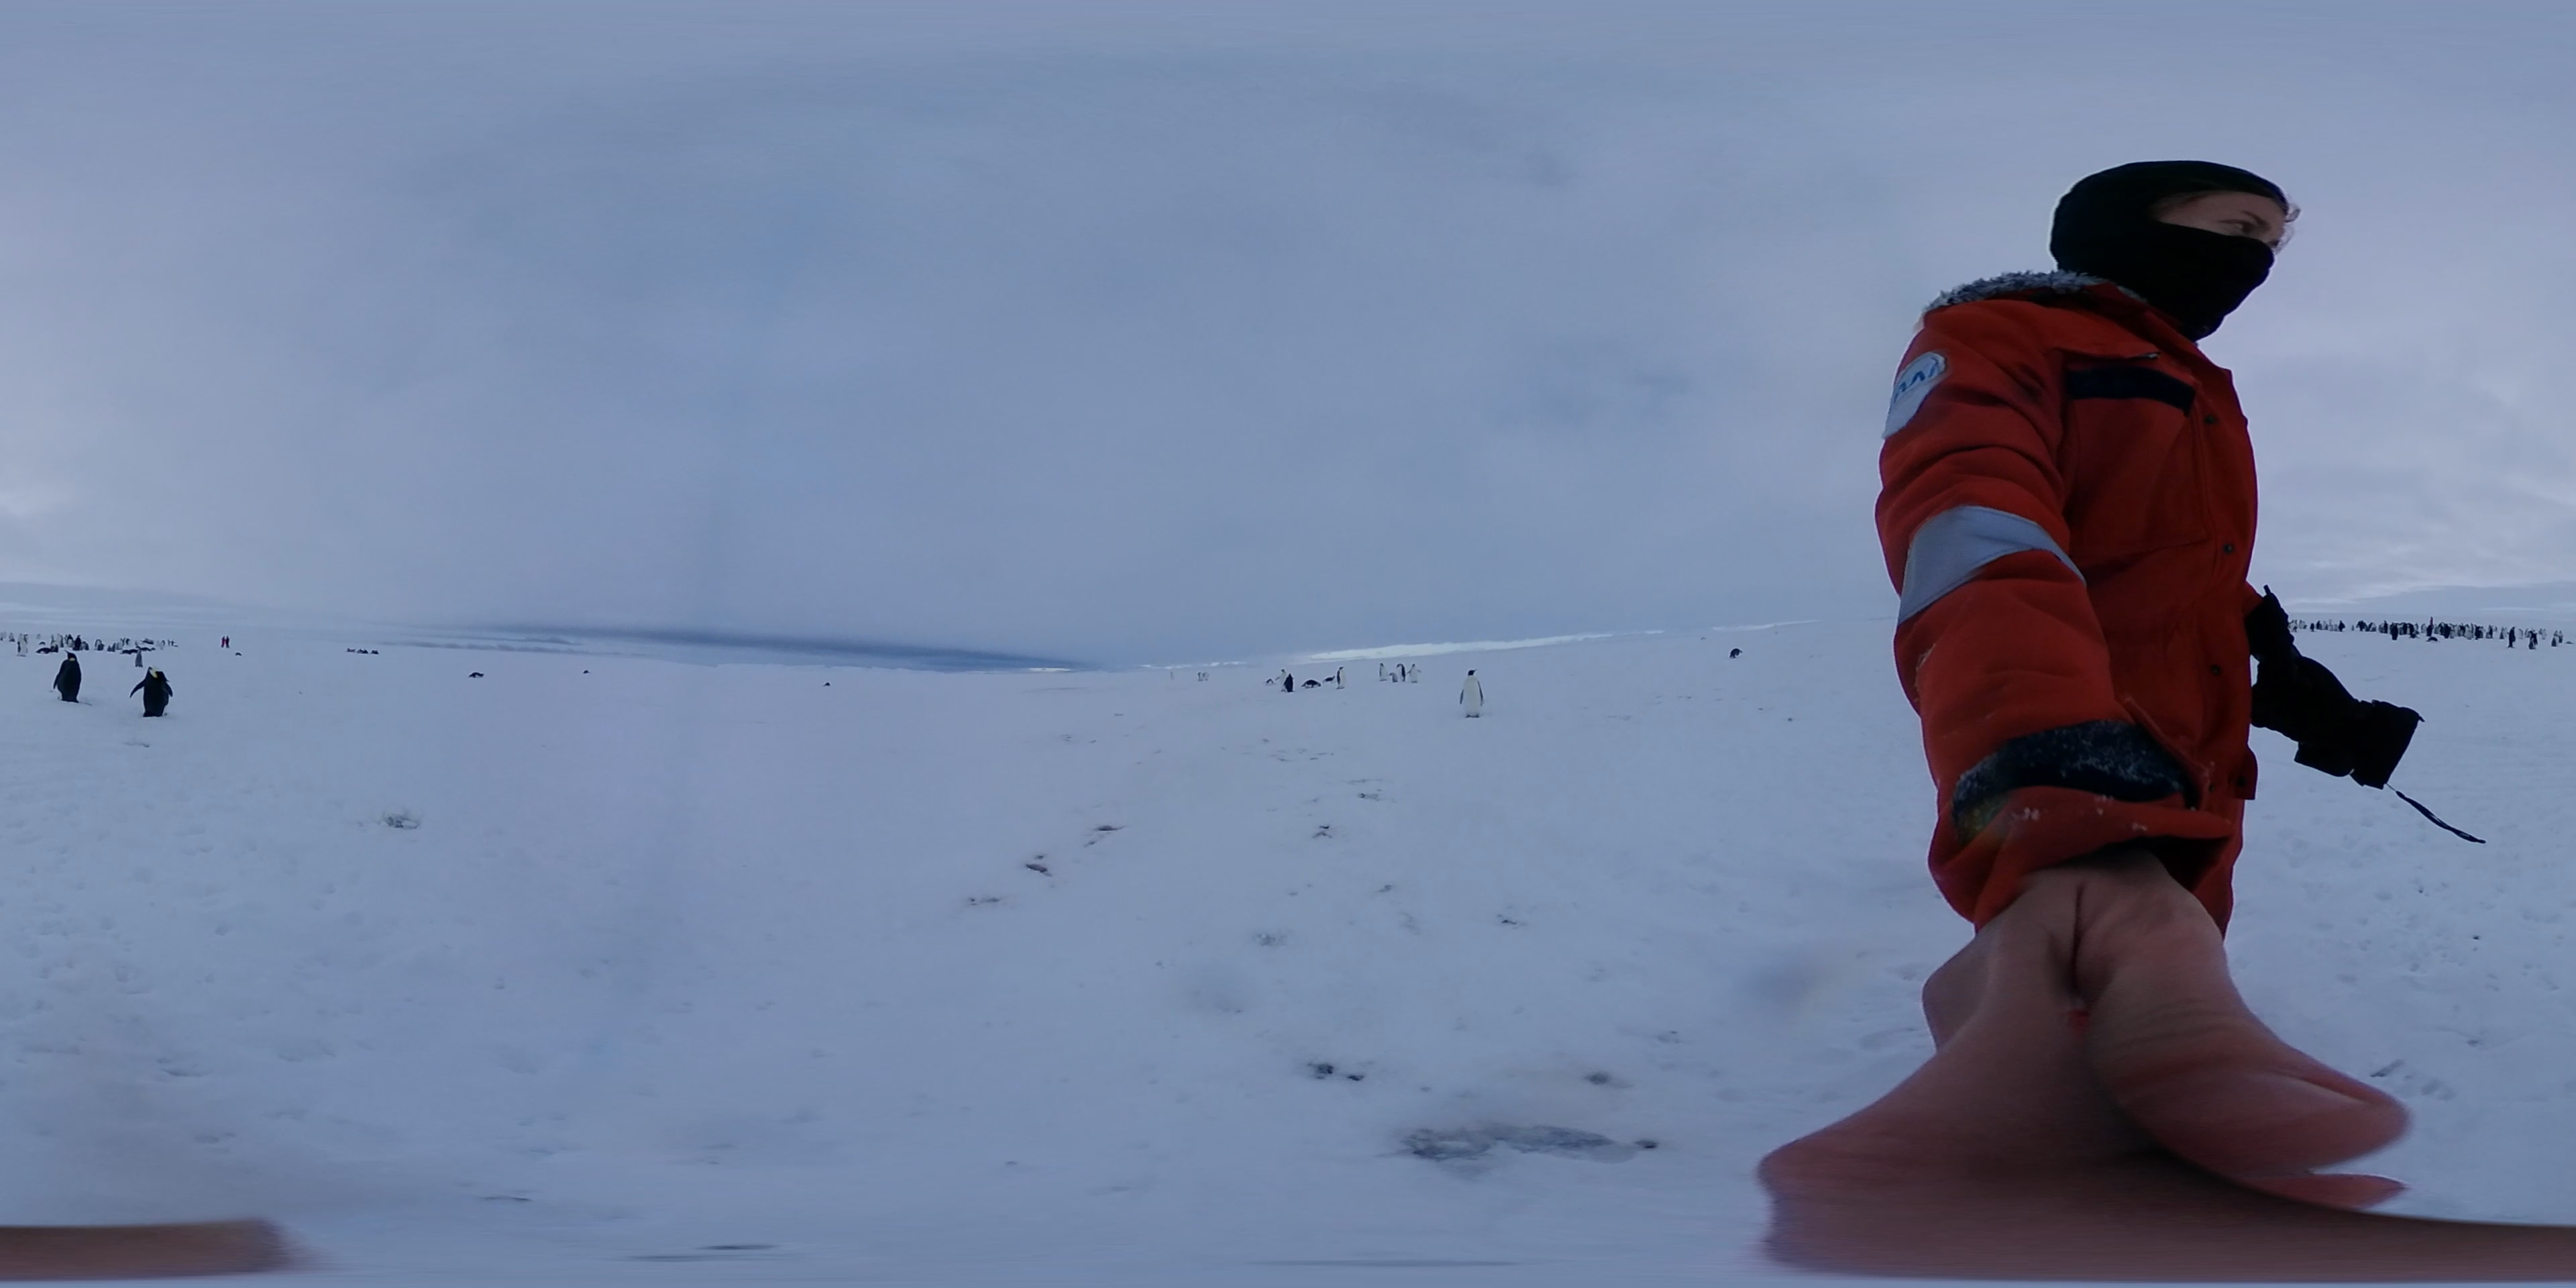adult_standing_penguin: (130, 665, 164, 723), (49, 651, 84, 706), (1457, 669, 1487, 721), (1334, 665, 1347, 692), (1275, 669, 1290, 692), (1283, 674, 1295, 695)
adult_toboggan_penguin: (1303, 680, 1324, 690), (1727, 647, 1745, 659), (468, 670, 486, 680)
researcher: (1881, 143, 2422, 1268)
